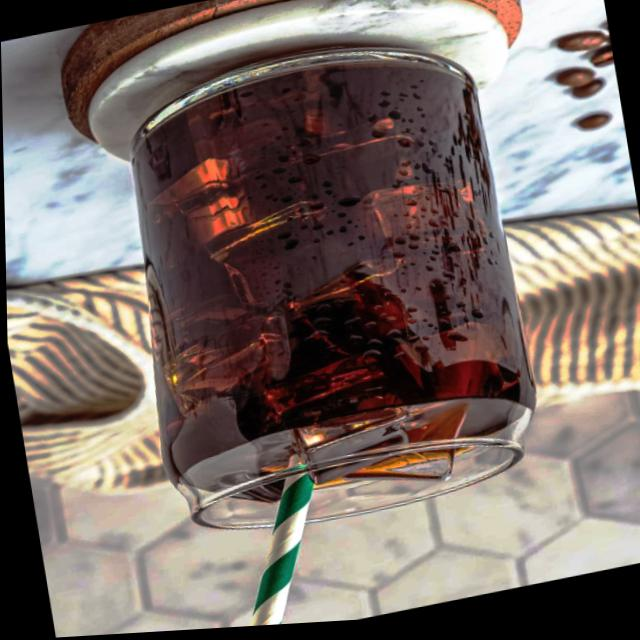drink: (141, 59, 533, 532)
